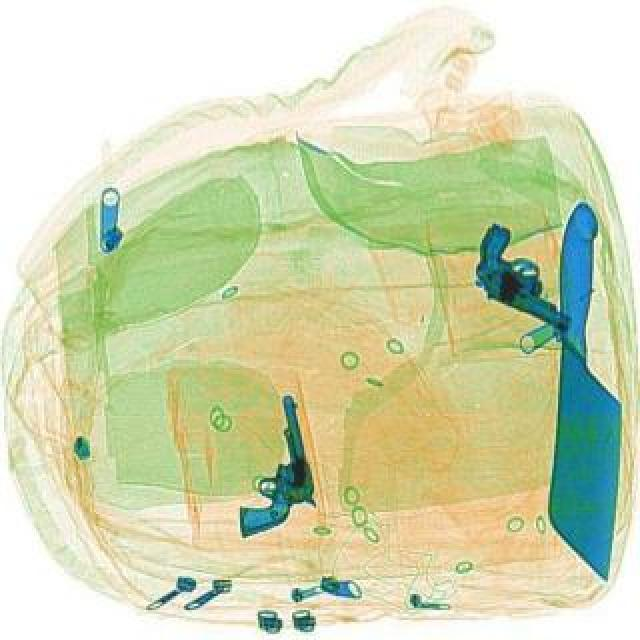gun: (218, 392, 326, 536), (462, 220, 602, 330)
knife: (546, 200, 634, 580)
